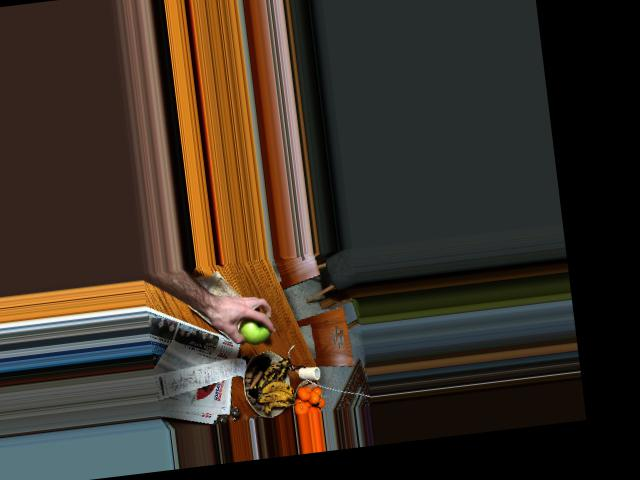apple: (230, 308, 276, 345)
